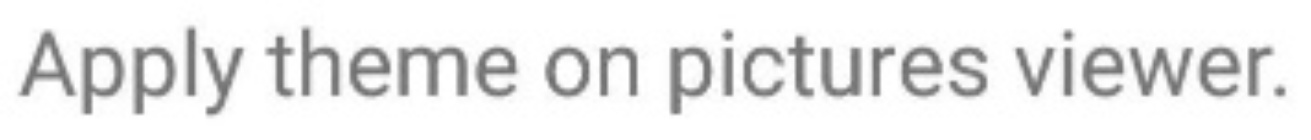TextView: (1, 1, 1310, 139)
